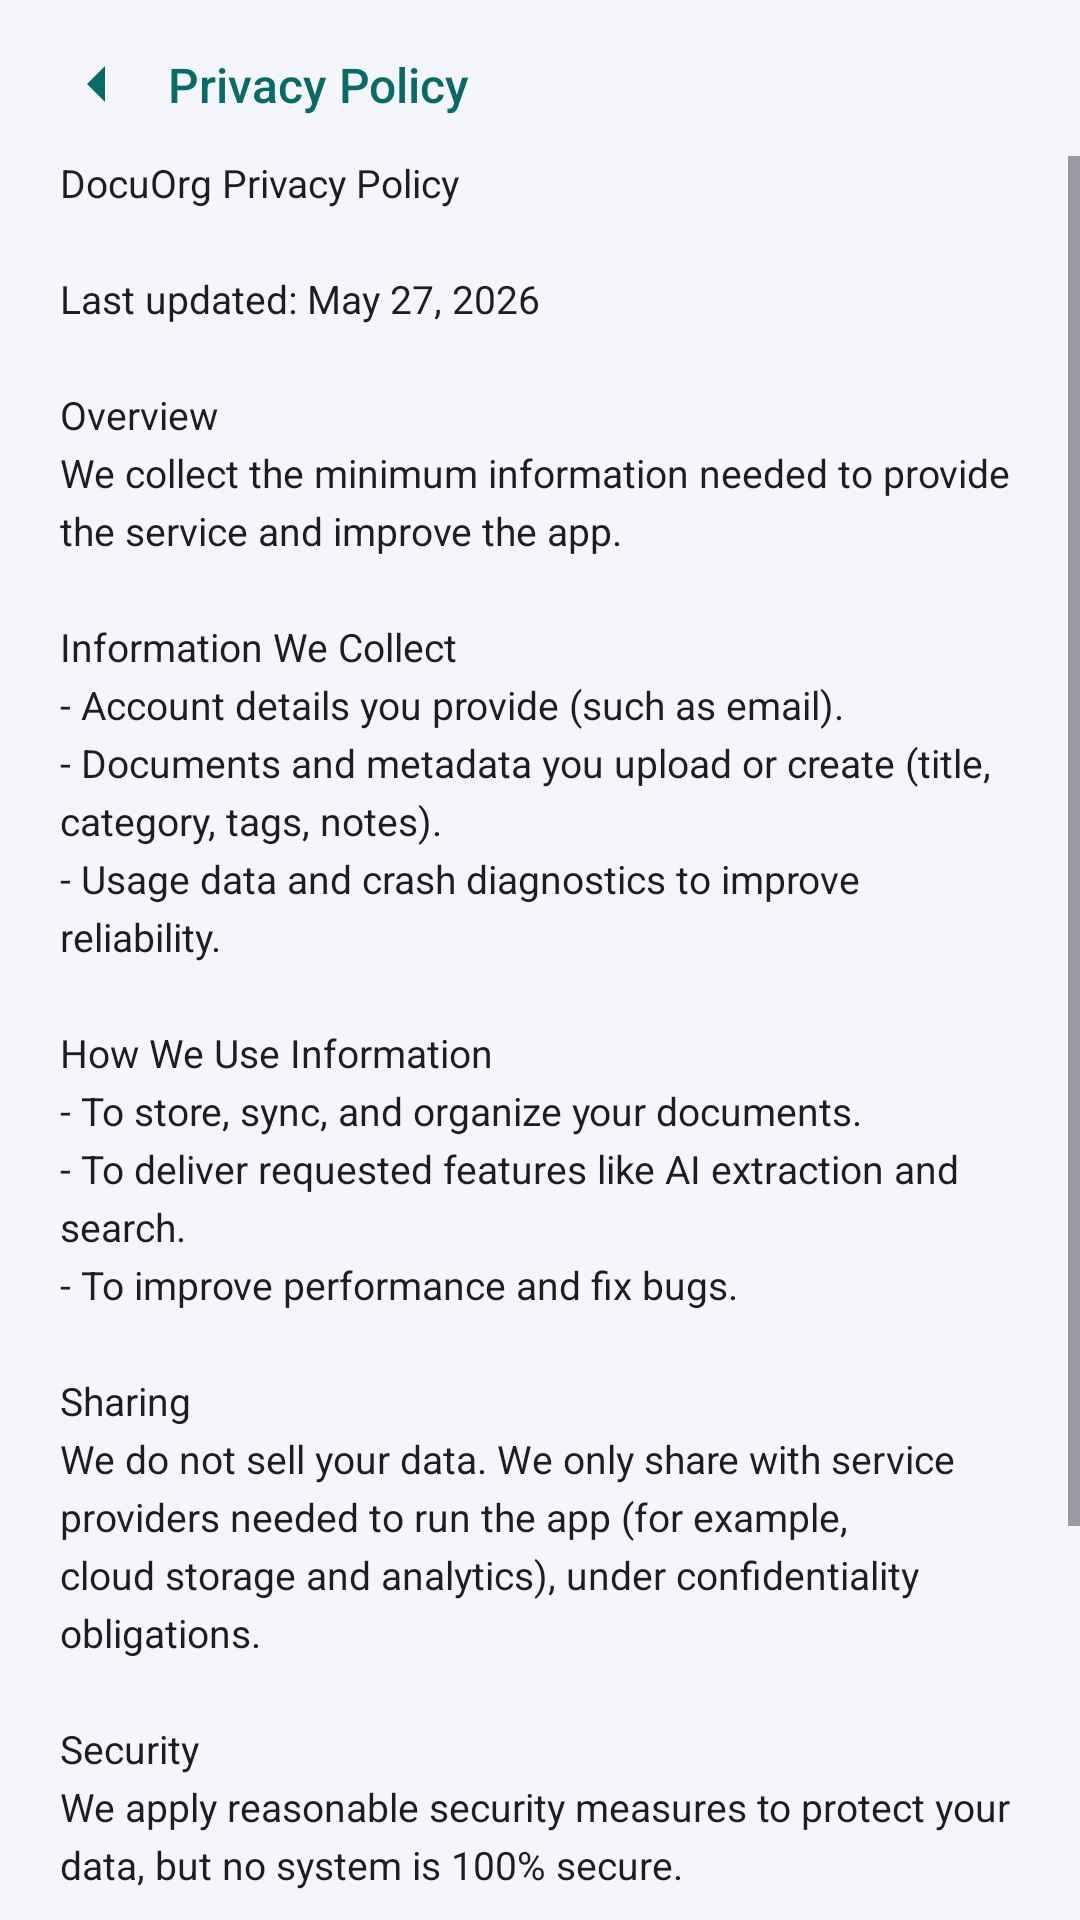

Where icons sit on this 1080px x 1920px app screen, as [x1, y1, x2, y2]:
Back: [87, 66, 105, 102]
